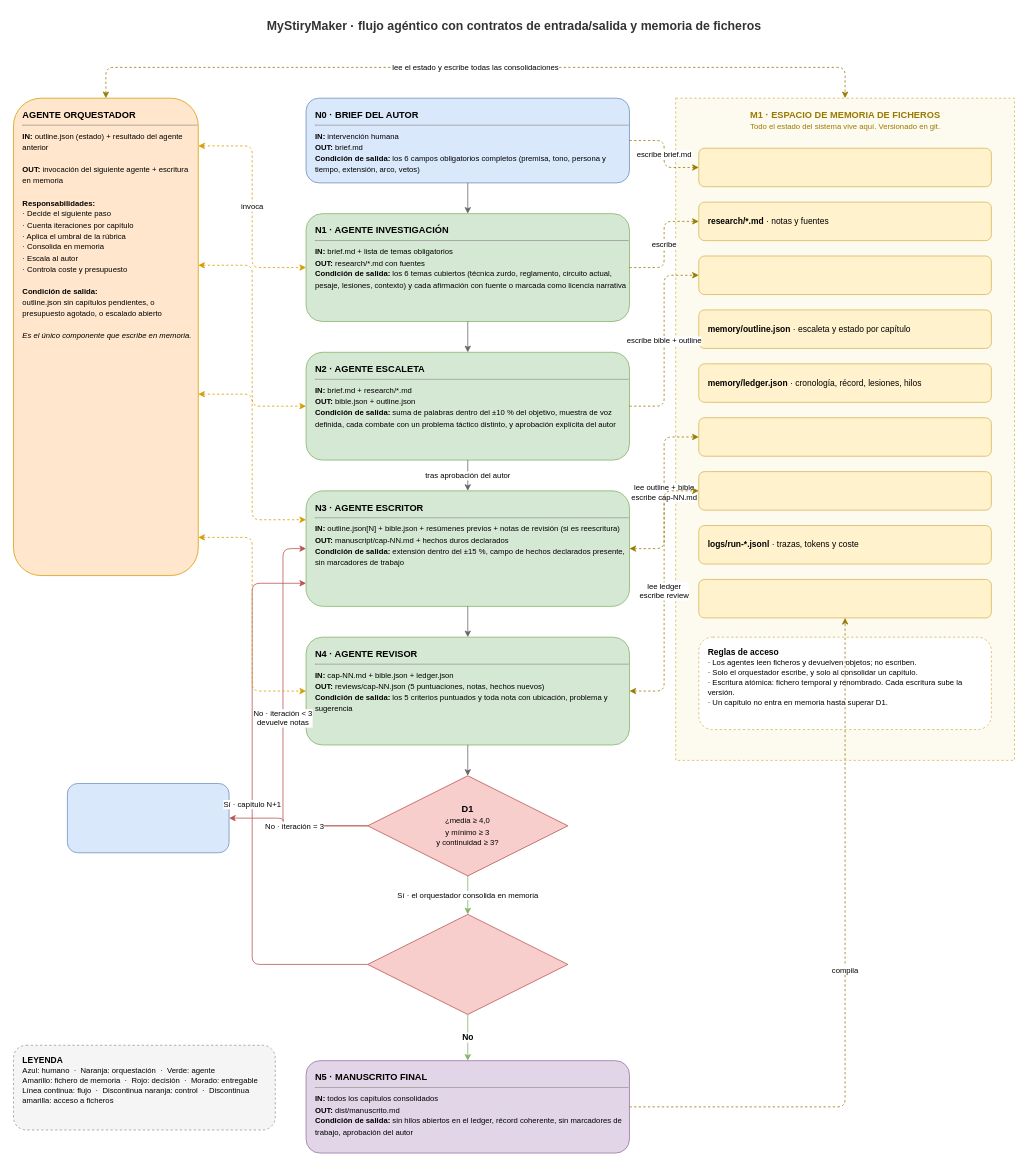
This 1028x1167 diagram has some shape labels left out. Here are the shapes that lost their labels. From the top down, the centre of each, then its label:
[844,167]: brief.md · entrada del autor
[844,275]: memory/bible.json · personajes, voz, reglas
[844,436]: manuscript/cap-NN.md · capítulos
[844,490]: reviews/cap-NN.json · puntuaciones y notas
[844,598]: dist/manuscrito.md · entregable compilado
[148,818]: ESCALADO AL AUTOR 3ª iteración fallida. Estado del capítulo: escalado
[467,964]: D2 ¿quedan capítulos pendientes en outline.json?
